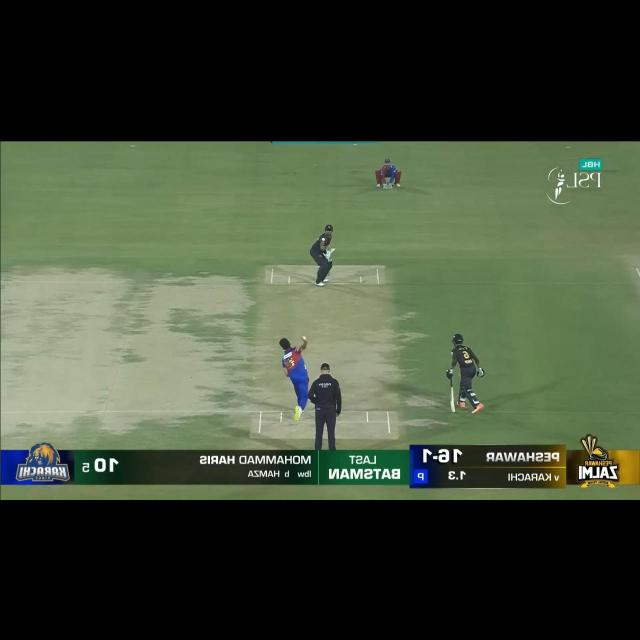bat: (448, 386, 458, 415), (326, 246, 337, 256)
toe: (450, 404, 456, 414), (332, 247, 336, 251)
